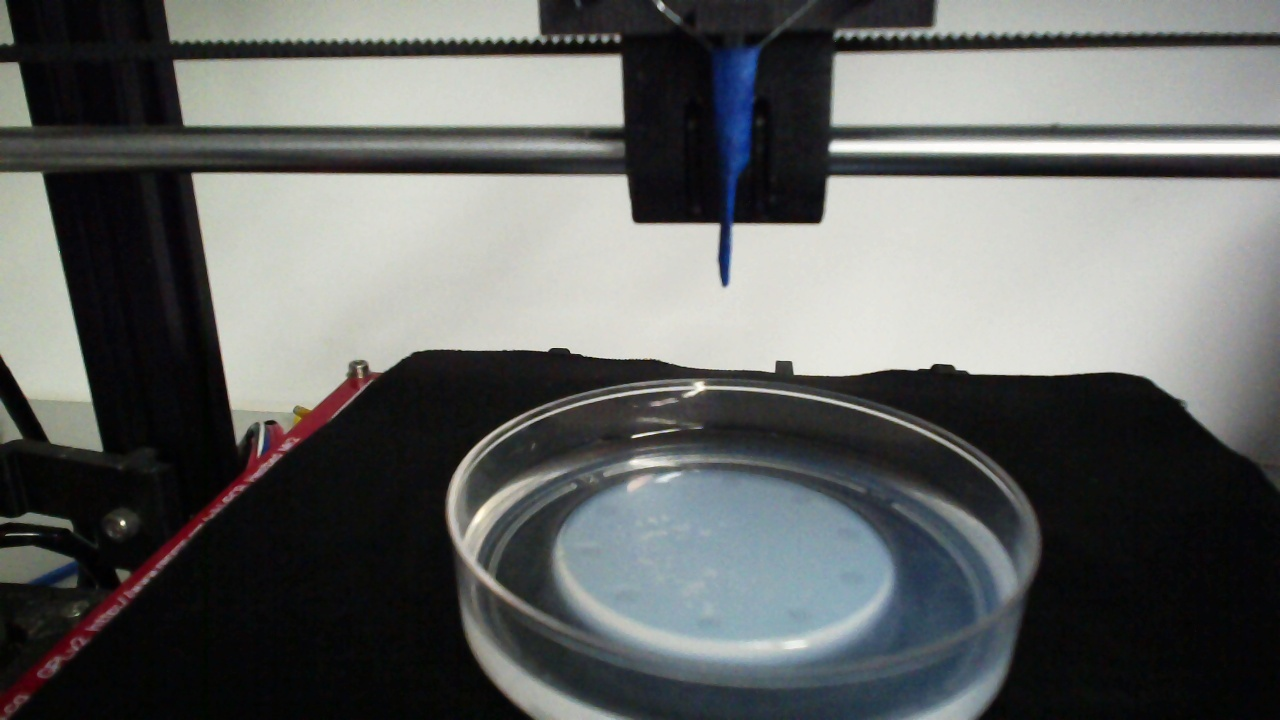groove: (840, 569, 867, 589), (786, 606, 816, 623), (613, 587, 640, 605), (790, 489, 816, 507), (837, 526, 863, 543), (695, 616, 724, 631), (576, 544, 602, 560), (592, 503, 618, 519), (720, 474, 744, 489)
needle: (716, 51, 756, 287)
